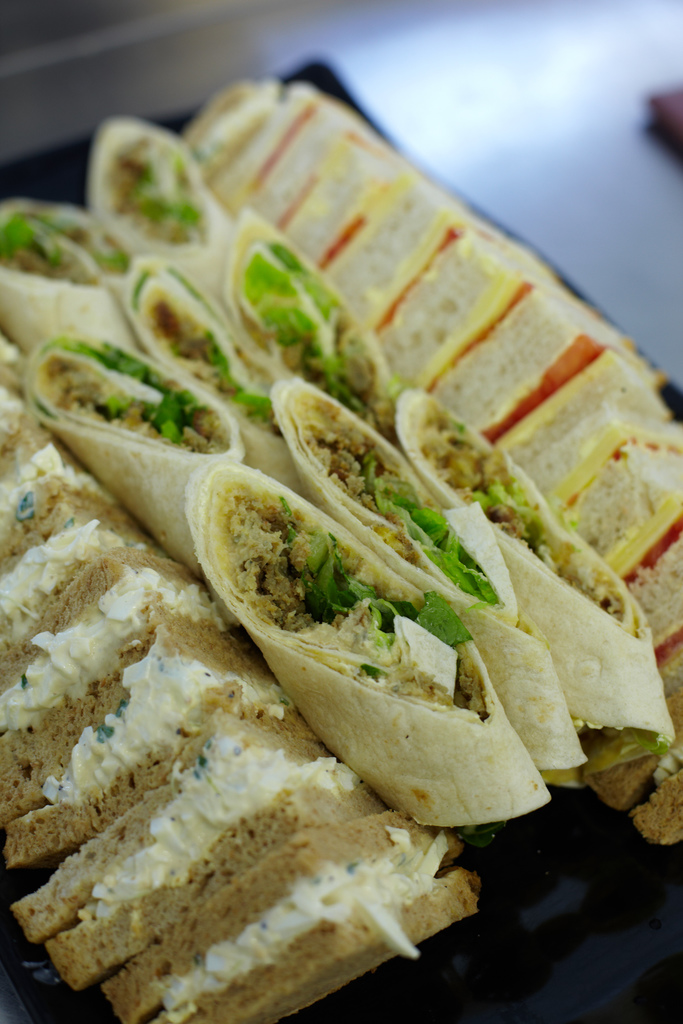sandwich: (0, 73, 682, 1023), (0, 76, 682, 1023)
